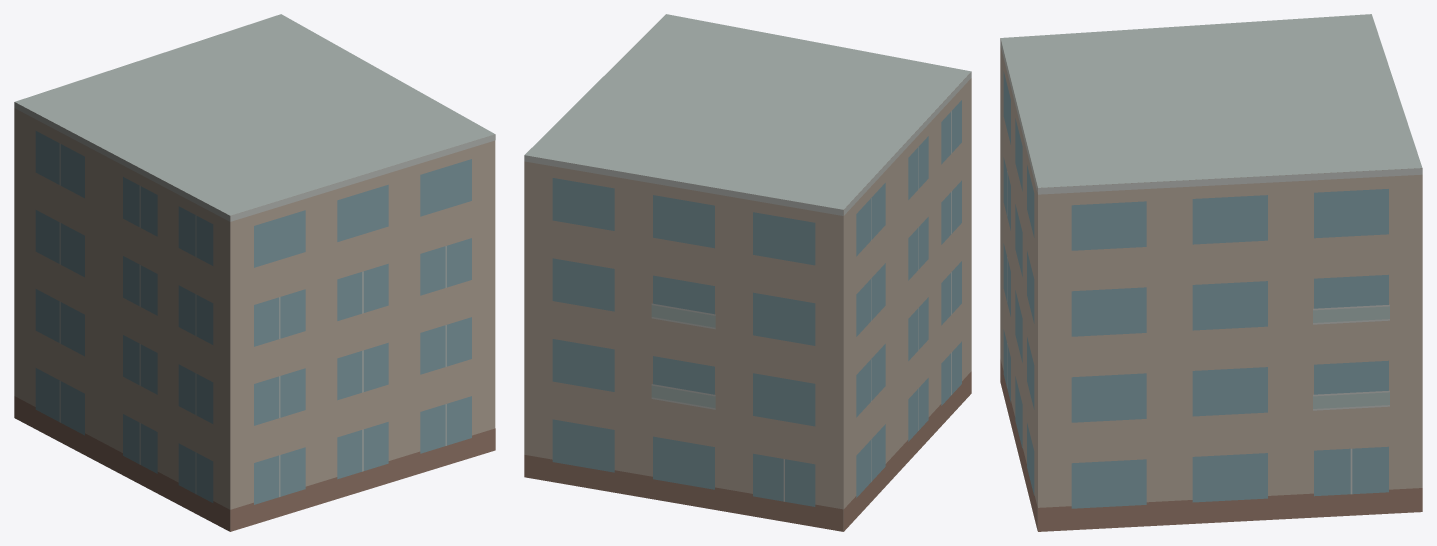
File: survey-upis-32576962.glb
3 views of the same model, side by side, from view 1: azimuth 30°, elevation 25°; view 2: azimuth 150°, elevation 25°; view 3: azimuth 270°, elevation 25° (orthographic). The views are drawn at different scales.
Parts seen in each view (by area): view 1: survey-upis-32576962.tmp; view 2: survey-upis-32576962.tmp; view 3: survey-upis-32576962.tmp.
Part boxes in pixels (x1,y1,x2,y2): survey-upis-32576962.tmp: (14,14,495,531); survey-upis-32576962.tmp: (524,14,971,531); survey-upis-32576962.tmp: (1000,14,1422,531).
Bounding box in the file's own units: 13.57 × 12.5 × 13.91.
